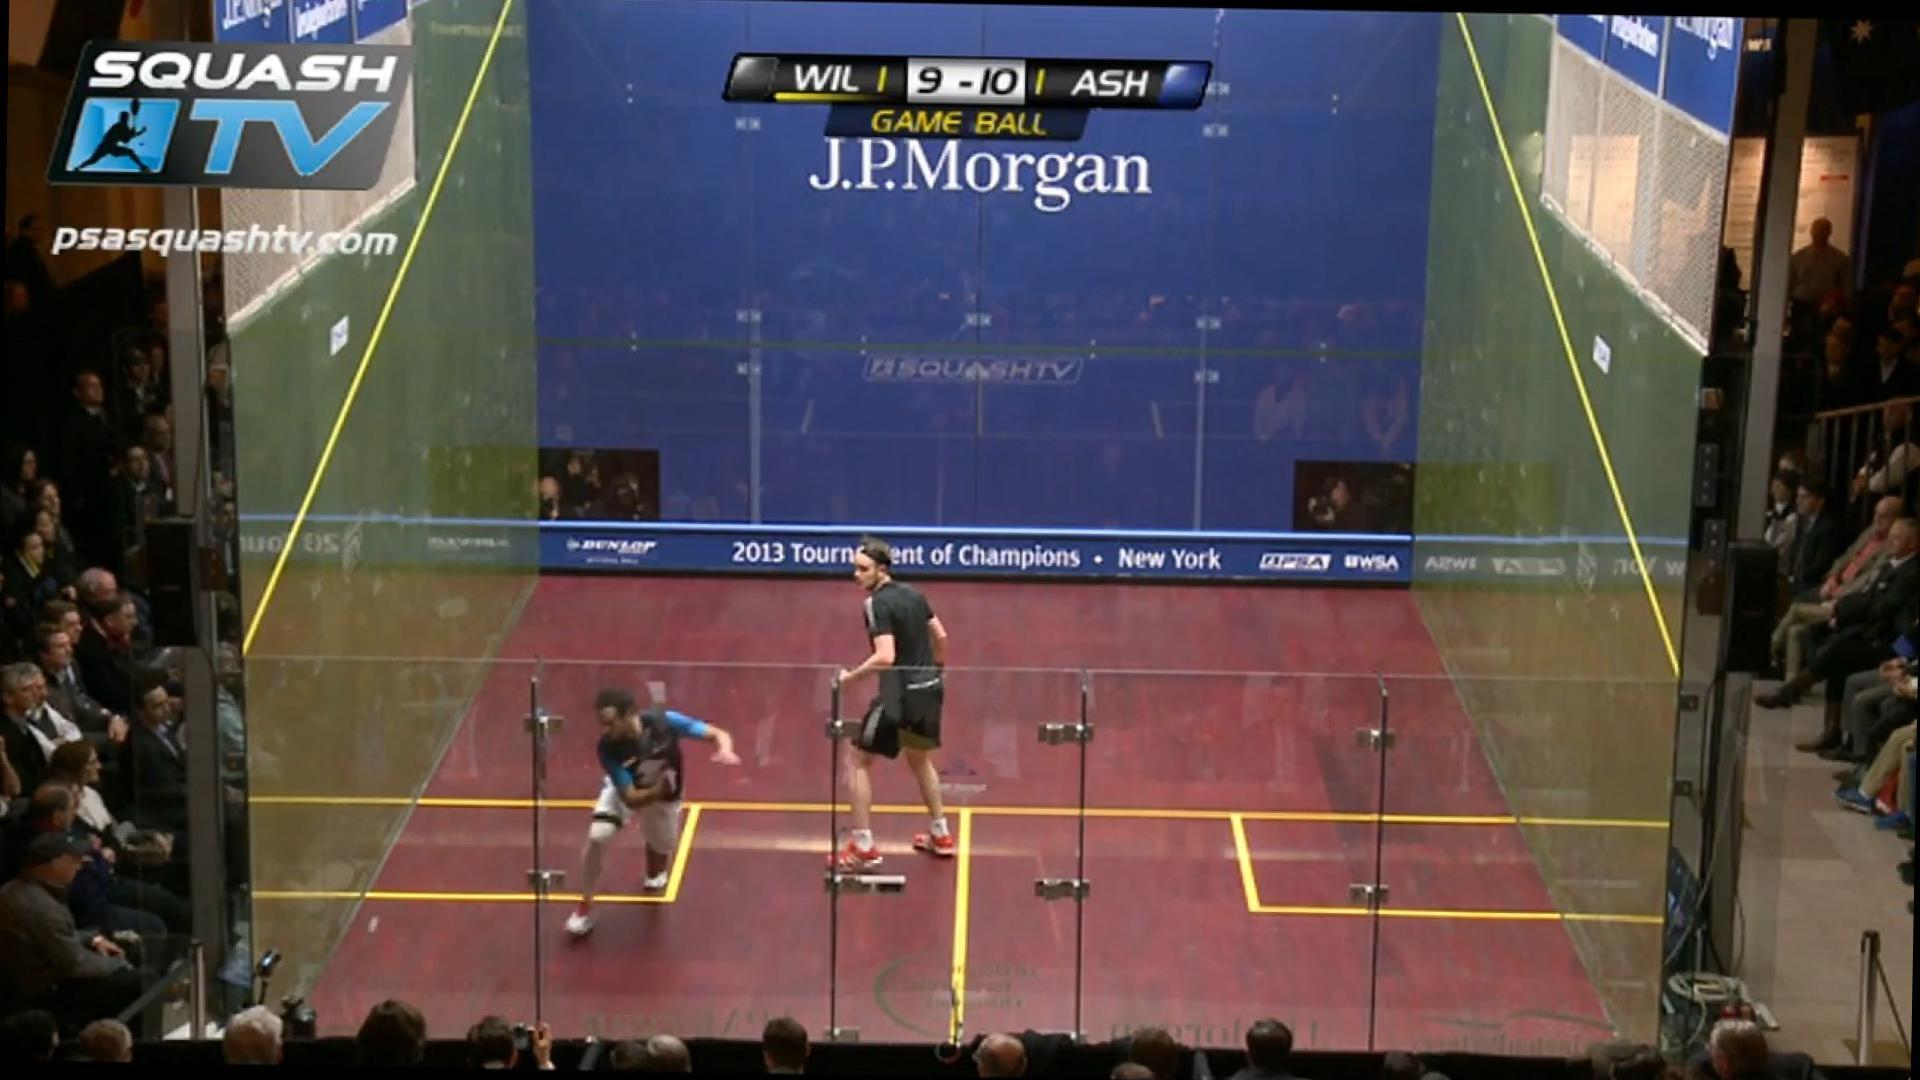Squash-Ball: (357, 909, 393, 944)
